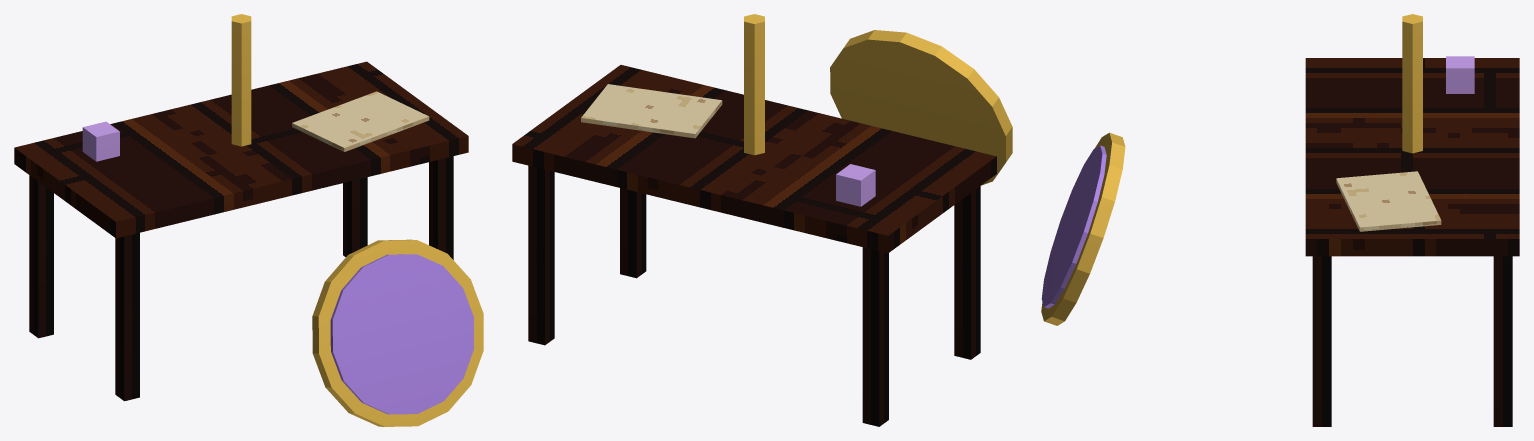
File: lens_table.glb
3 views of the same model, side by side, from view 1: azimuth 30°, elevation 25°; view 2: azimuth 150°, elevation 25°; view 3: azimuth 270°, elevation 25° (orthographic). The views are drawn at different scales.
Parts seen in each view (by area): view 1: lens_table; view 2: lens_table; view 3: lens_table.
Part boxes in pixels (box(x1,y1,x2,y2)): lens_table: box(14, 14, 483, 426); lens_table: box(512, 14, 1012, 426); lens_table: box(1041, 14, 1519, 426).
Size of the model in its own units: 1.8 by 1.5 by 2.01.
4 materials, 2 textured.
